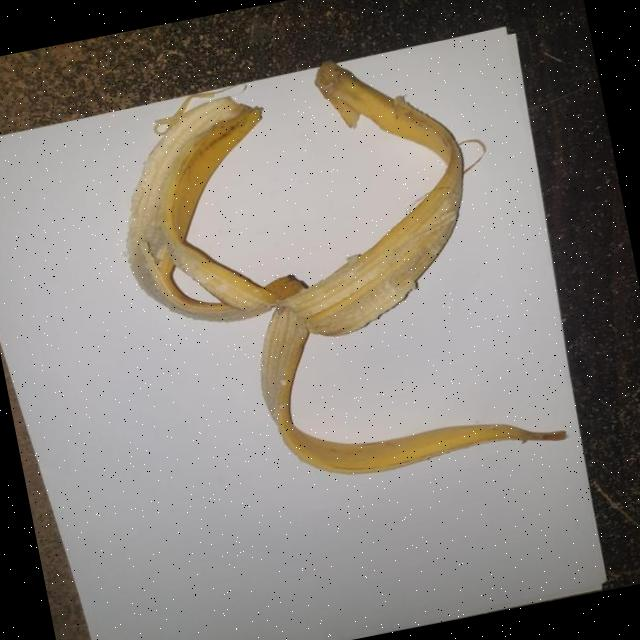banana-peel: (96, 28, 568, 516)
